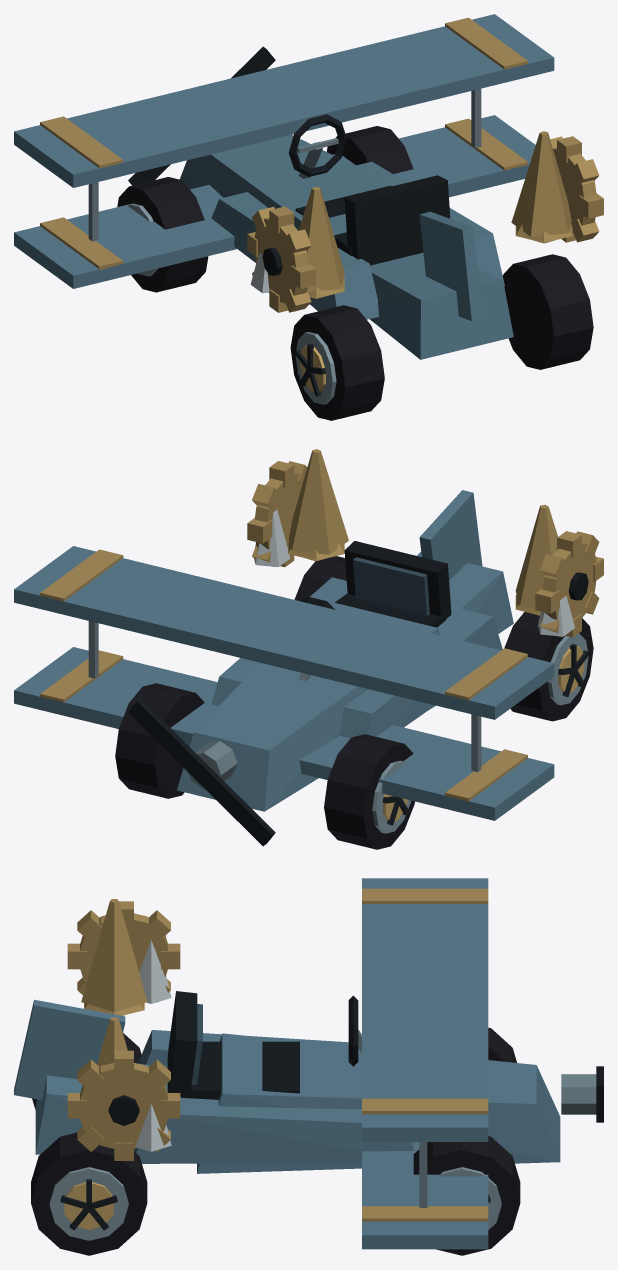
File: kart.glb
3 views of the same model, one above another, from view 1: azimuth 30°, elevation 25°; view 2: azimuth 150°, elevation 25°; view 3: azimuth 270°, elevation 25° (orthographic). The views are drawn at different scales.
Visible parts, largest first — view 1: identity-biplane-biplane-dual-wings-and-propeller, identity-biplane-driver-cockpit, wheel-rear-left, wheel-rear-right, identity-biplane-motif-gears, identity-biplane-motif-crystals, wheel-front-left, wheel-front-right, identity-biplane-motif-gems; view 2: identity-biplane-biplane-dual-wings-and-propeller, identity-biplane-motif-gears, identity-biplane-motif-crystals, wheel-front-left, identity-biplane-driver-cockpit, wheel-front-right, wheel-rear-left, wheel-rear-right, identity-biplane-motif-gems; view 3: identity-biplane-biplane-dual-wings-and-propeller, identity-biplane-motif-gears, wheel-rear-right, identity-biplane-driver-cockpit, identity-biplane-motif-crystals, wheel-front-right, wheel-front-left.
Boxes of the visible parts, x1=… form: identity-biplane-biplane-dual-wings-and-propeller: x1=14, y1=14, x2=554, y2=359; identity-biplane-driver-cockpit: x1=288, y1=114, x2=450, y2=265; wheel-rear-left: x1=290, y1=305, x2=384, y2=420; wheel-rear-right: x1=503, y1=254, x2=593, y2=369; identity-biplane-motif-gears: x1=247, y1=136, x2=603, y2=312; identity-biplane-motif-crystals: x1=250, y1=131, x2=571, y2=293; wheel-front-left: x1=117, y1=177, x2=208, y2=292; wheel-front-right: x1=326, y1=126, x2=413, y2=173; identity-biplane-motif-gems: x1=308, y1=224, x2=572, y2=298; identity-biplane-biplane-dual-wings-and-propeller: x1=14, y1=490, x2=554, y2=846; identity-biplane-motif-gears: x1=247, y1=461, x2=603, y2=637; identity-biplane-motif-crystals: x1=254, y1=449, x2=574, y2=636; wheel-front-left: x1=324, y1=734, x2=414, y2=849; identity-biplane-driver-cockpit: x1=298, y1=541, x2=451, y2=681; wheel-front-right: x1=115, y1=683, x2=204, y2=798; wheel-rear-left: x1=504, y1=612, x2=593, y2=721; wheel-rear-right: x1=294, y1=556, x2=346, y2=600; identity-biplane-motif-gems: x1=288, y1=541, x2=540, y2=615; identity-biplane-biplane-dual-wings-and-propeller: x1=14, y1=878, x2=603, y2=1249; identity-biplane-motif-gears: x1=67, y1=901, x2=180, y2=1160; wheel-rear-right: x1=31, y1=1132, x2=147, y2=1255; identity-biplane-driver-cockpit: x1=167, y1=991, x2=361, y2=1099; identity-biplane-motif-crystals: x1=81, y1=899, x2=171, y2=1151; wheel-front-right: x1=413, y1=1136, x2=520, y2=1255; wheel-front-left: x1=488, y1=1027, x2=516, y2=1062.
Bounding box in the file's own units: 3.04 × 1.32 × 3.04.
